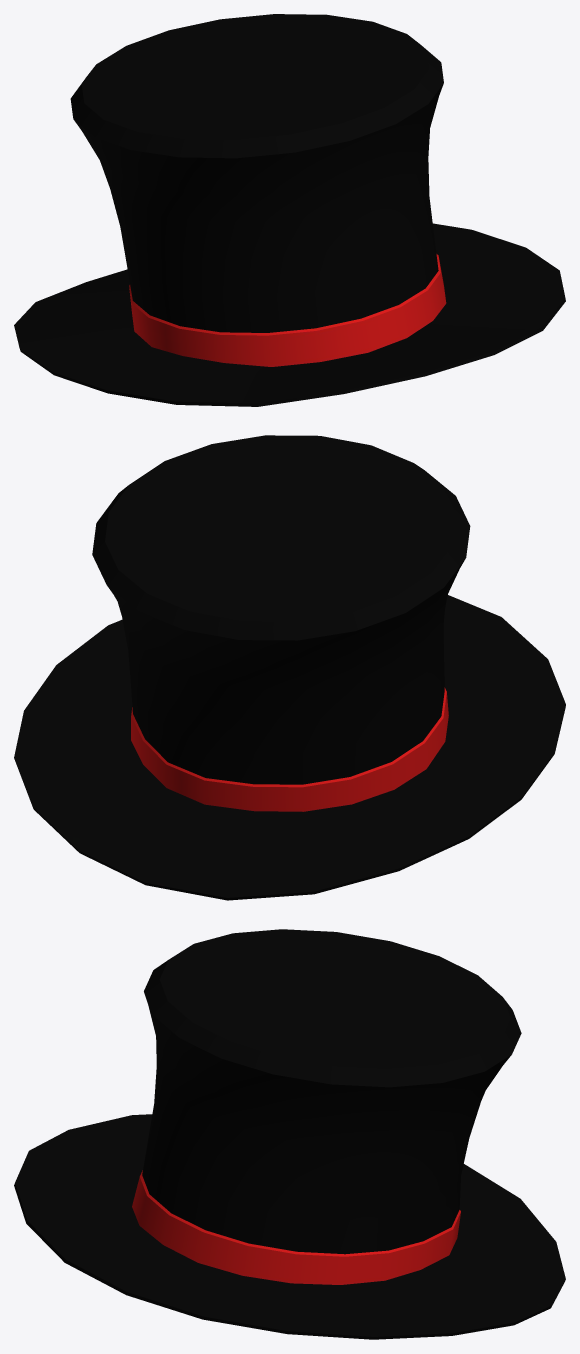
Rendered from Top_Hat.glb.
3 views of the same model, one above another, from view 1: azimuth 30°, elevation 25°; view 2: azimuth 150°, elevation 25°; view 3: azimuth 270°, elevation 25° (orthographic).
Visible parts, largest first — view 1: Top Hat; view 2: Top Hat; view 3: Top Hat.
Part boxes in pixels (x1,y1,x2,y2): Top Hat: (14, 14, 565, 406); Top Hat: (14, 435, 565, 900); Top Hat: (14, 929, 565, 1339).
Bounding box in the file's own units: 1.79 × 1.08 × 1.84.
1 material, 1 textured.
